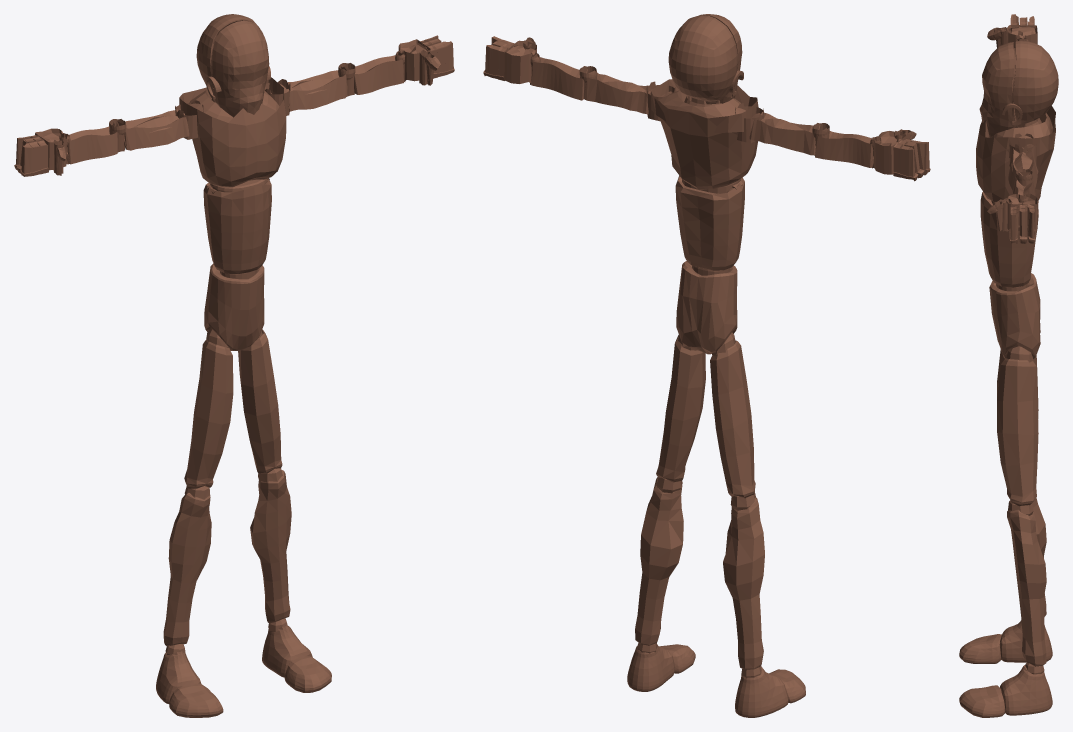
The picture shows the model from 3 angles, left to right: view 1: azimuth 30°, elevation 25°; view 2: azimuth 150°, elevation 25°; view 3: azimuth 270°, elevation 25°; orthographic projection. The views are drawn at different scales.
Parts seen in each view (by area): view 1: base_mannequin.glb, base_mannequin.glb_2; view 2: base_mannequin.glb, base_mannequin.glb_2; view 3: base_mannequin.glb, base_mannequin.glb_2.
Boxes of the visible parts, x1,y1,x2,y2 form: base_mannequin.glb: [14, 14, 454, 717]; base_mannequin.glb_2: [59, 51, 405, 654]; base_mannequin.glb: [483, 14, 930, 717]; base_mannequin.glb_2: [530, 53, 881, 677]; base_mannequin.glb: [959, 14, 1058, 717]; base_mannequin.glb_2: [991, 39, 1044, 674].
Size of the model in its own units: 1.52 by 2.24 by 0.3161.
Materials: 3 (3 with a texture image).
